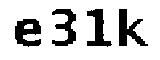1: (85, 8, 113, 50)
3: (48, 6, 79, 50)
e: (10, 16, 43, 50)
k: (115, 6, 150, 49)
